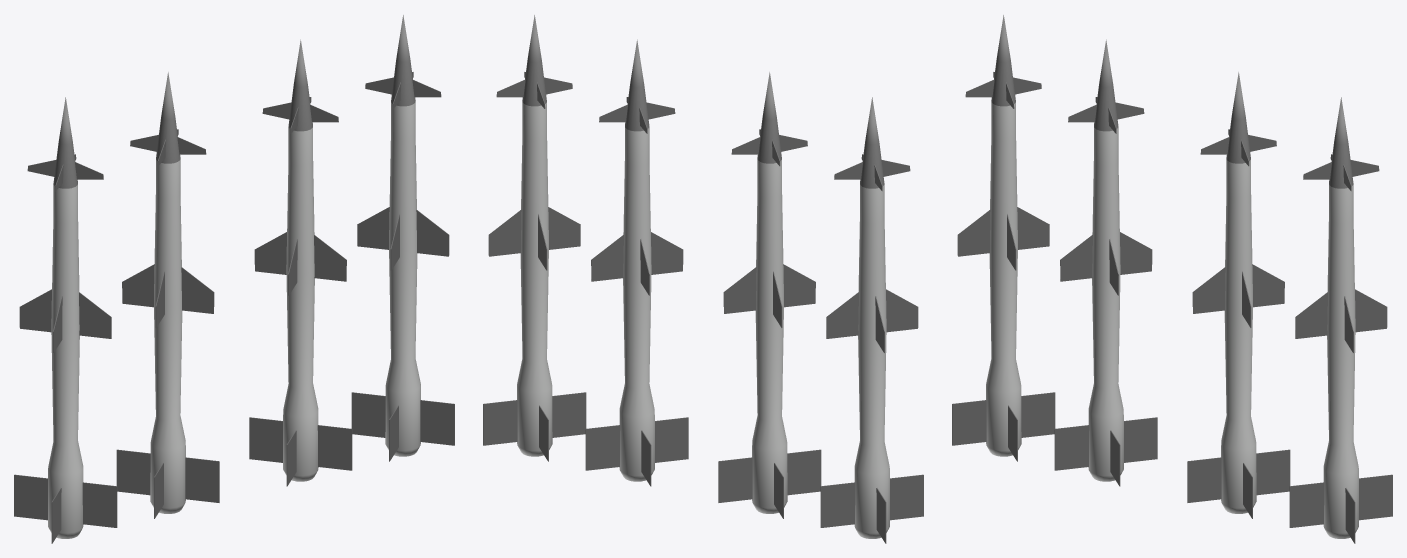
Rendered from c-75_missiles.fbx.
The picture shows the model from 3 angles, left to right: view 1: azimuth 30°, elevation 25°; view 2: azimuth 150°, elevation 25°; view 3: azimuth 330°, elevation 25°; orthographic projection.
Visible parts, largest first — view 1: c-75_missiles; view 2: c-75_missiles; view 3: c-75_missiles.
Part boxes in pixels (<box>): c-75_missiles: <box>14,15,454,543</box>; c-75_missiles: <box>483,15,923,543</box>; c-75_missiles: <box>952,15,1392,543</box>.
Size of the model in its own units: 791 by 819 by 129.
